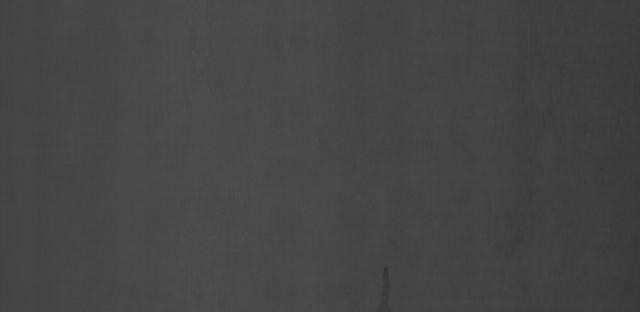water_spot: (368, 246, 425, 312)
